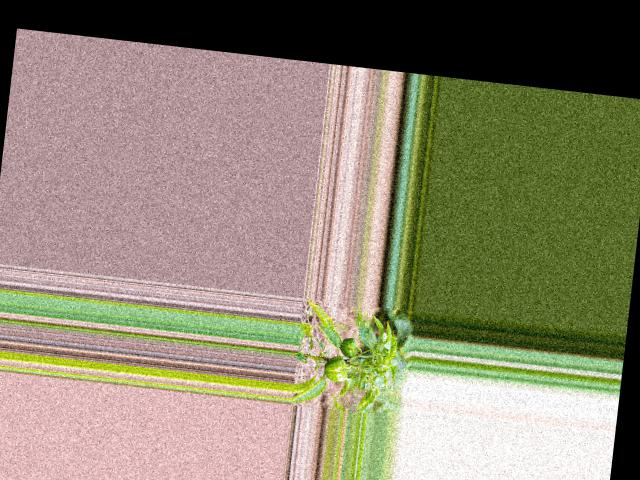bell_pepper: (337, 335, 360, 358)
